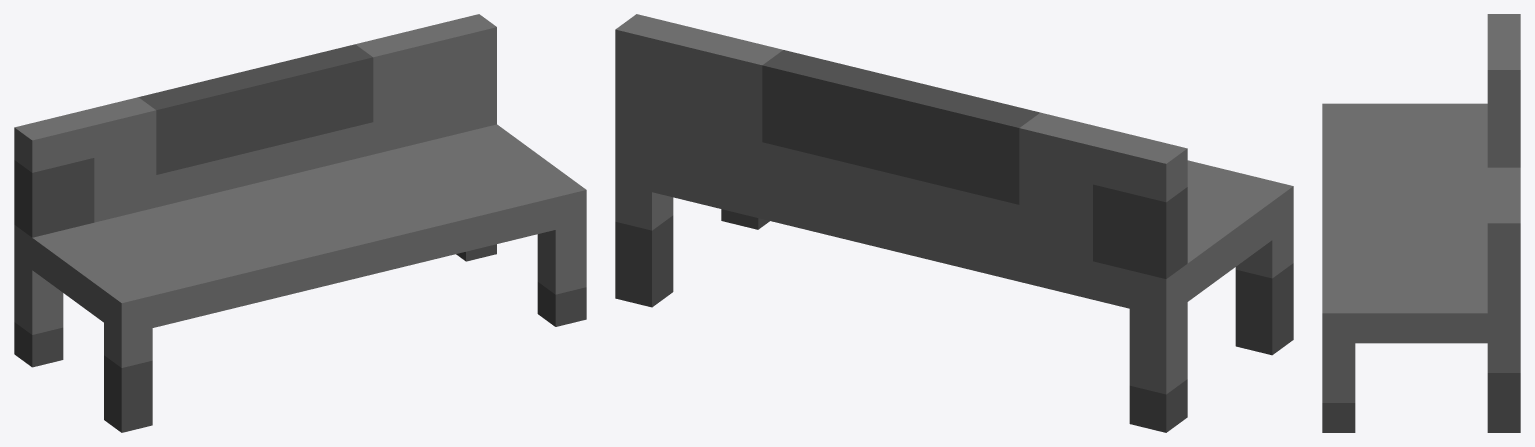
Rendered from obj_bench4.obj.
3 views of the same model, side by side, from view 1: azimuth 30°, elevation 25°; view 2: azimuth 150°, elevation 25°; view 3: azimuth 270°, elevation 25° (orthographic). The views are drawn at different scales.
Bounding box in the file's own units: 1.5 × 0.7 × 0.6.
1 material, 1 textured.
